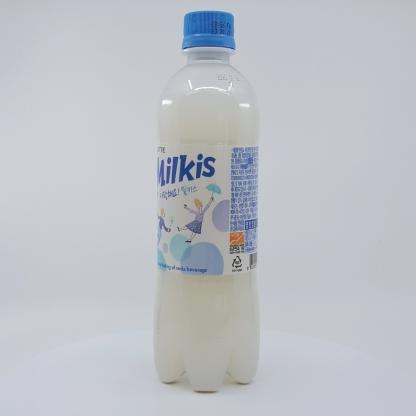-----500ML: (153, 11, 260, 391)
